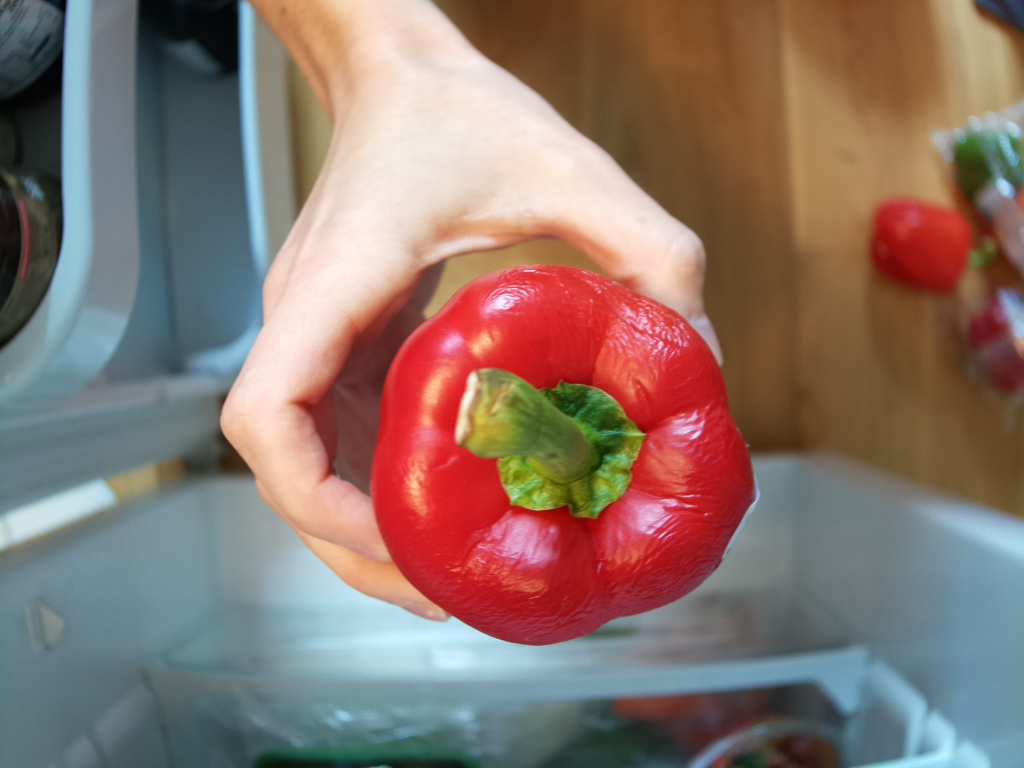pepper-bad: (362, 258, 757, 660)
